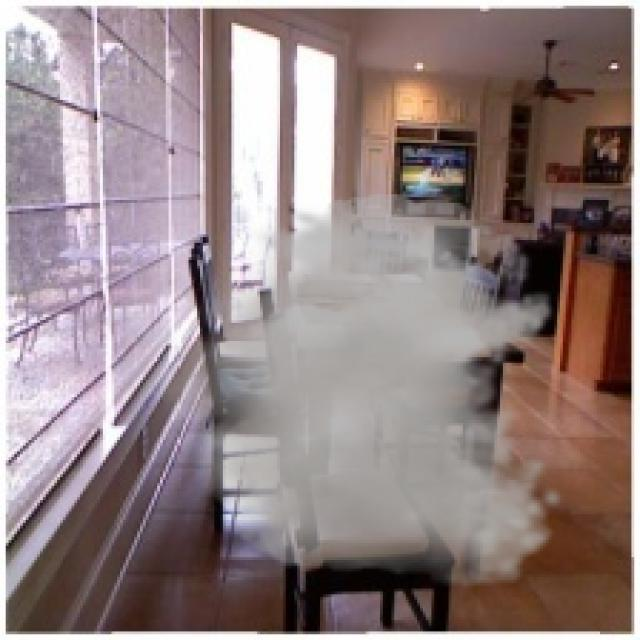Smoke: (140, 194, 566, 589)
